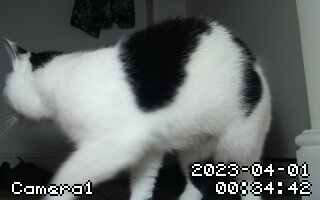bad: (7, 13, 276, 191)
